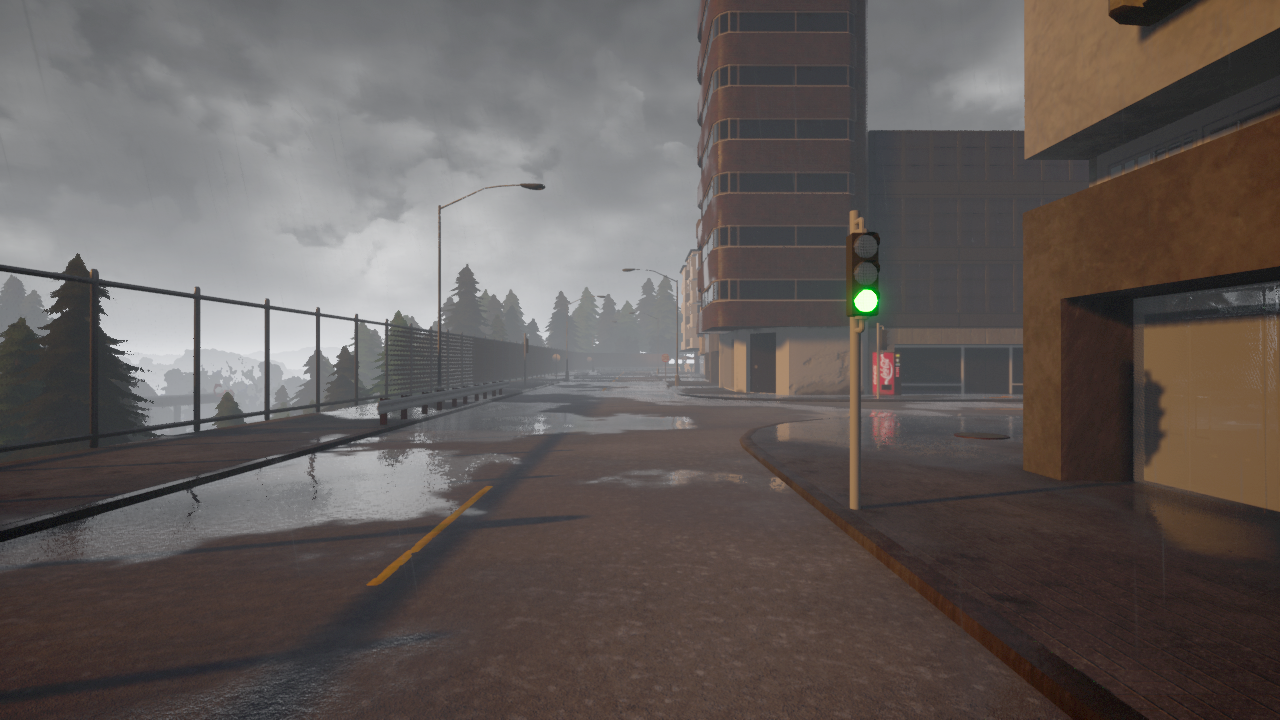green: (845, 231, 880, 318)
